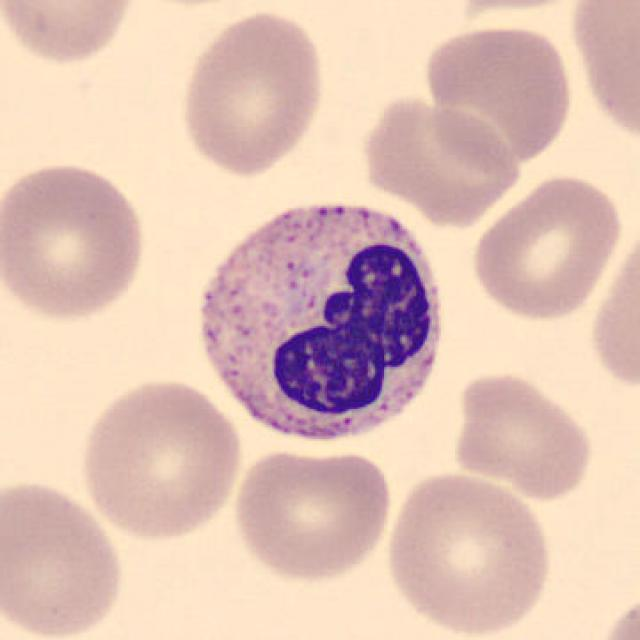Neutrophil: (187, 187, 457, 457)
RBC: (380, 467, 556, 638), (75, 374, 245, 543), (174, 5, 329, 180), (0, 157, 151, 324), (468, 170, 626, 324), (229, 441, 395, 584), (420, 19, 578, 168), (357, 90, 523, 226), (0, 474, 130, 640), (448, 367, 597, 502), (567, 0, 640, 150), (0, 0, 140, 69), (587, 222, 638, 397), (439, 0, 601, 18), (592, 585, 638, 640)
